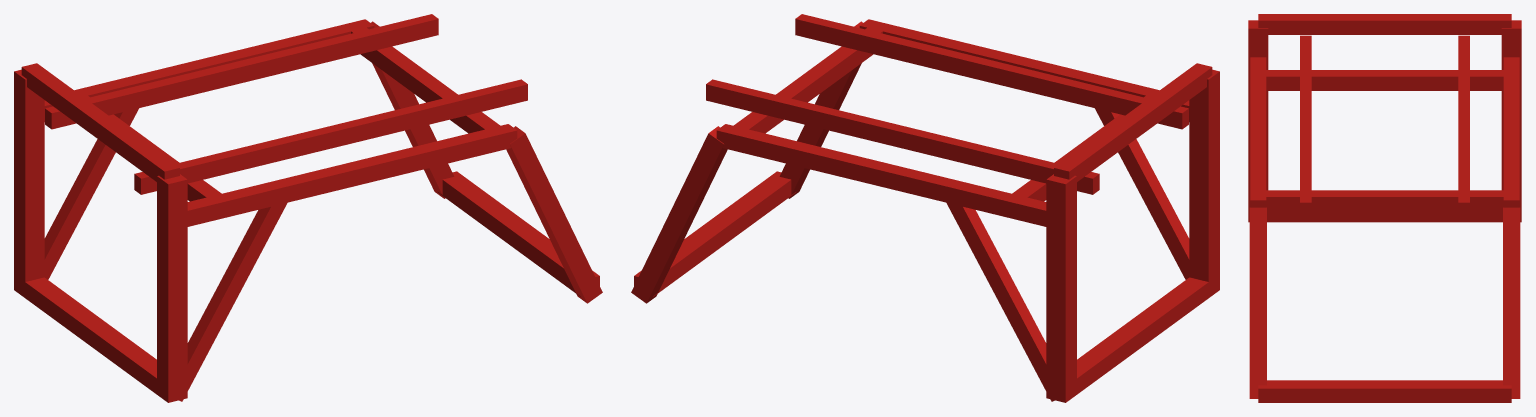
File: boat_lift_claude.dae
3 renders of one model, left to right at view 1: azimuth 30°, elevation 25°; view 2: azimuth 150°, elevation 25°; view 3: azimuth 270°, elevation 25°, orthographic. The views are drawn at different scales.
Visible parts, largest first — view 1: boatlift; view 2: boatlift; view 3: boatlift.
Boxes of the visible parts, x1,y1,x2,y2 form: boatlift: (14,14,602,402); boatlift: (631,14,1219,402); boatlift: (1248,14,1521,402).
Size of the model in its own units: 5.65 by 3.45 by 2.85.
